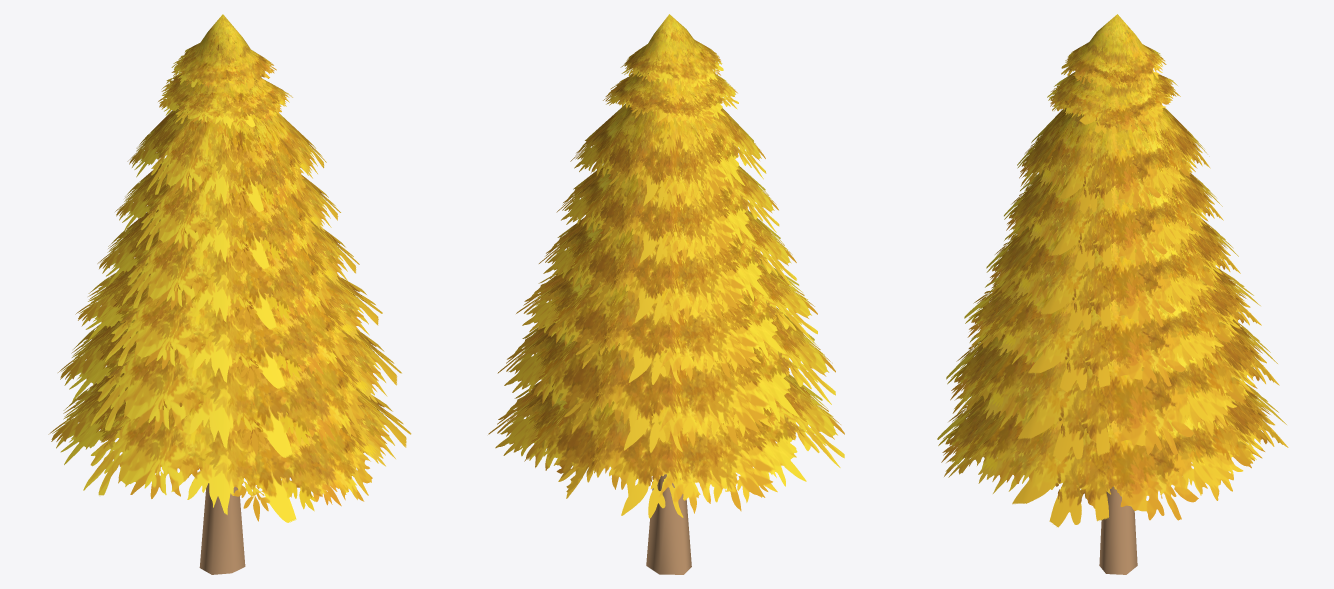
File: Envi_Tree01.FBX
3 renders of one model, left to right at view 1: azimuth 30°, elevation 25°; view 2: azimuth 150°, elevation 25°; view 3: azimuth 270°, elevation 25°, orthographic.
Parts seen in each view (by area): view 1: Envi_Tree01; view 2: Envi_Tree01; view 3: Envi_Tree01.
Part boxes in pixels (left/top/right/bottom): Envi_Tree01: left=48, top=14, right=411, bottom=574; Envi_Tree01: left=488, top=14, right=844, bottom=574; Envi_Tree01: left=937, top=14, right=1288, bottom=574.
Bounding box in the file's own units: 410 × 593 × 401.
